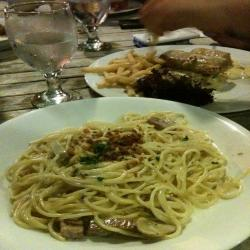carbonara: (10, 107, 245, 244)
fries: (95, 52, 159, 89)
